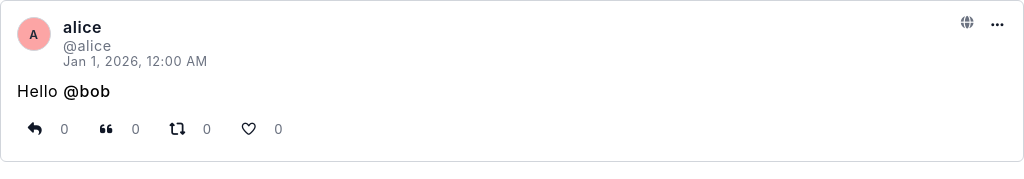
Scenario: ActivityCard › boosts the activity once and bumps the counter
Click the button named "Boost" at (177, 129), box [160, 113, 195, 145]
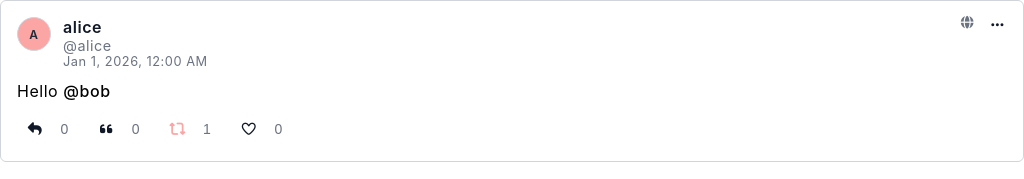
Check: the button with class "activity-card__count" reads "1", box [195, 117, 219, 141]
